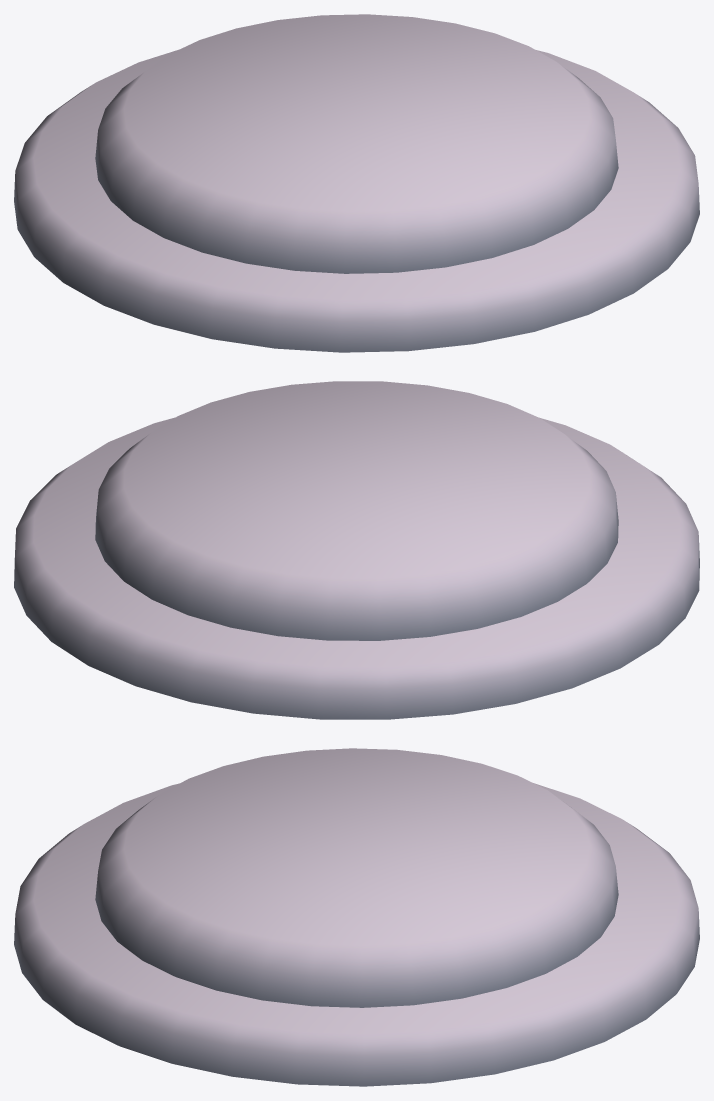
File: podium.fbx
3 views of the same model, one above another, from view 1: azimuth 30°, elevation 25°; view 2: azimuth 150°, elevation 25°; view 3: azimuth 270°, elevation 25° (orthographic).
Parts seen in each view (by area): view 1: podium; view 2: podium; view 3: podium.
Boxes of the visible parts, x1,y1,x2,y2 form: podium: (14,14,699,352); podium: (14,381,699,719); podium: (14,748,699,1086).
Size of the model in its own units: 455 by 69.53 by 455.
